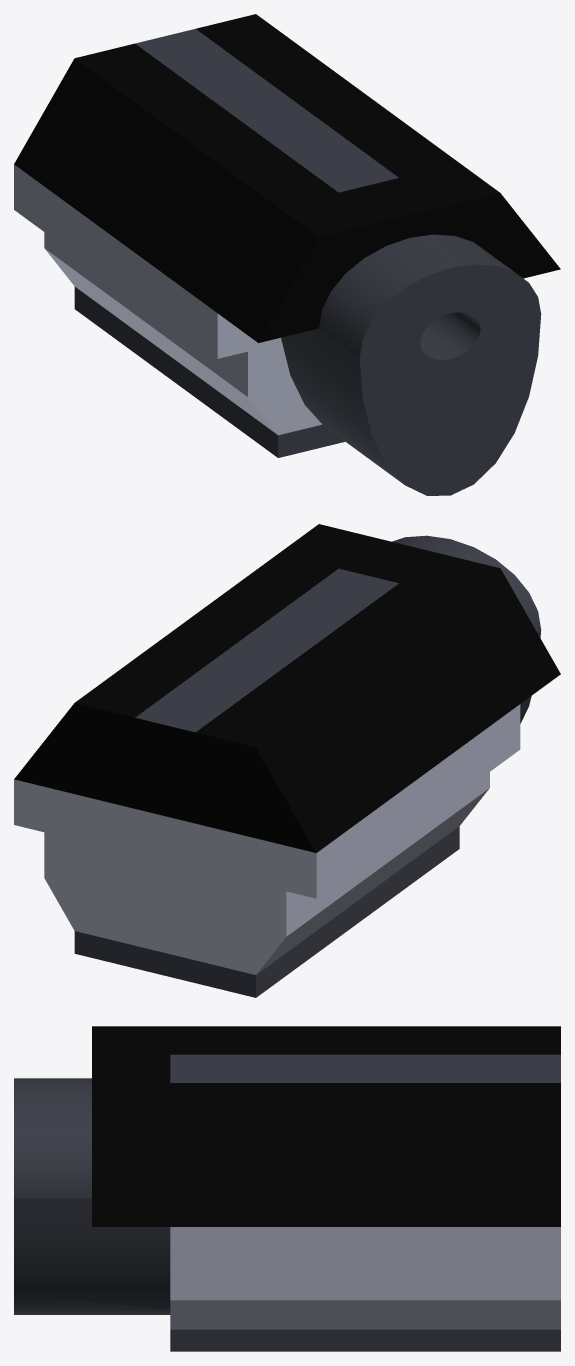
The model's file is Module1x1.fbx.
3 renders of one model, top to bottom at view 1: azimuth 30°, elevation 25°; view 2: azimuth 150°, elevation 25°; view 3: azimuth 270°, elevation 25°, orthographic. The views are drawn at different scales.
Parts seen in each view (by area): view 1: mergedBlocks; view 2: mergedBlocks; view 3: mergedBlocks.
Part boxes in pixels (x1,y1,x2,y2): mergedBlocks: (14,14,560,495); mergedBlocks: (14,524,560,997); mergedBlocks: (14,1026,560,1351).
Bounding box in the file's own units: 5 × 3.96 × 8.16.
